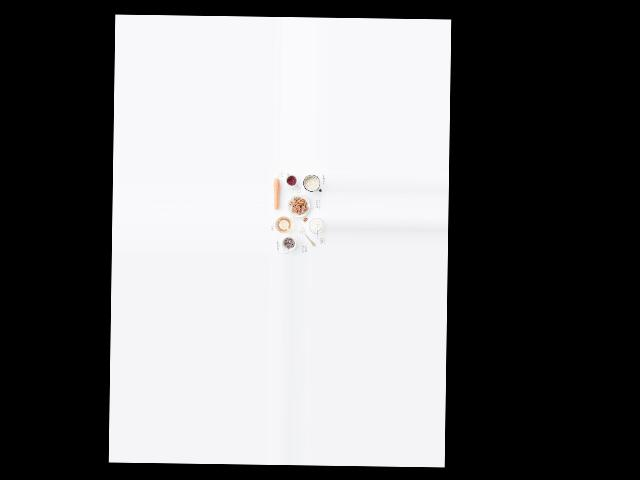carrot: (271, 175, 284, 213)
